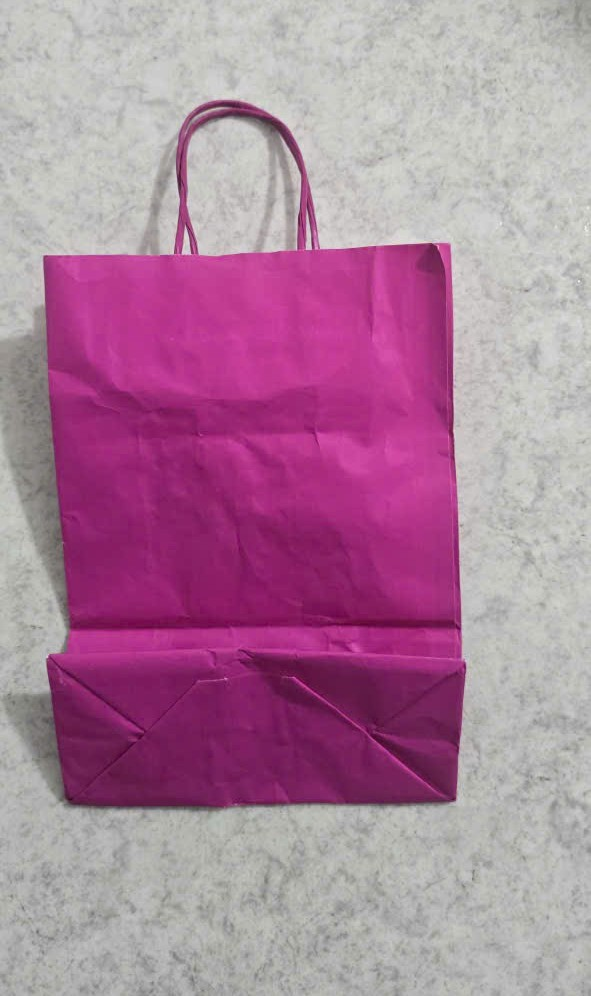paper: (32, 92, 474, 821)
